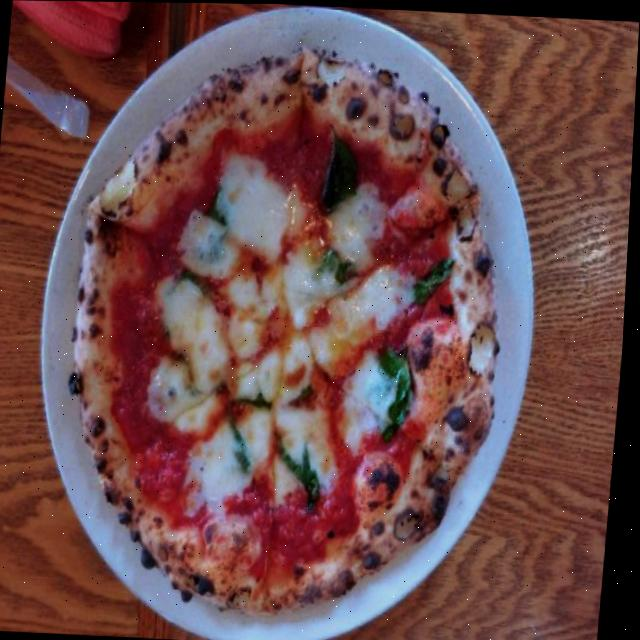汉堡快餐: (11, 0, 548, 640)
